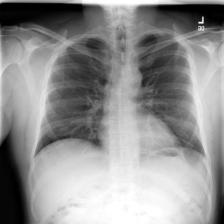normal: (30, 30, 209, 164)
